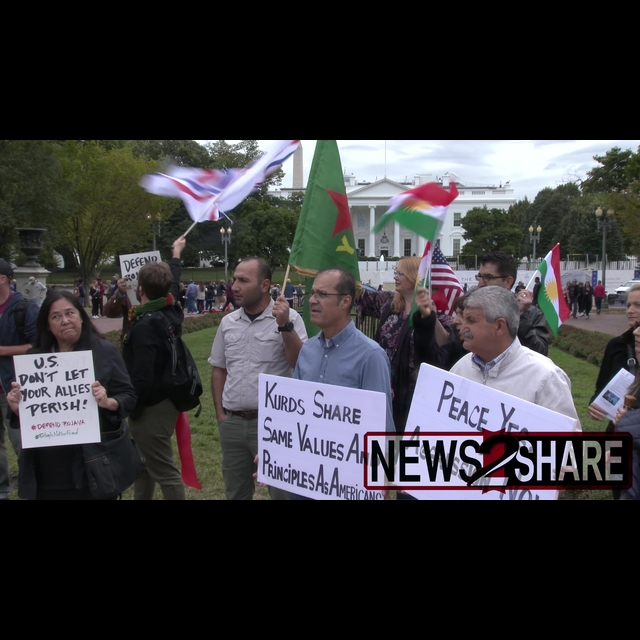IBKY: (537, 242, 575, 336)
